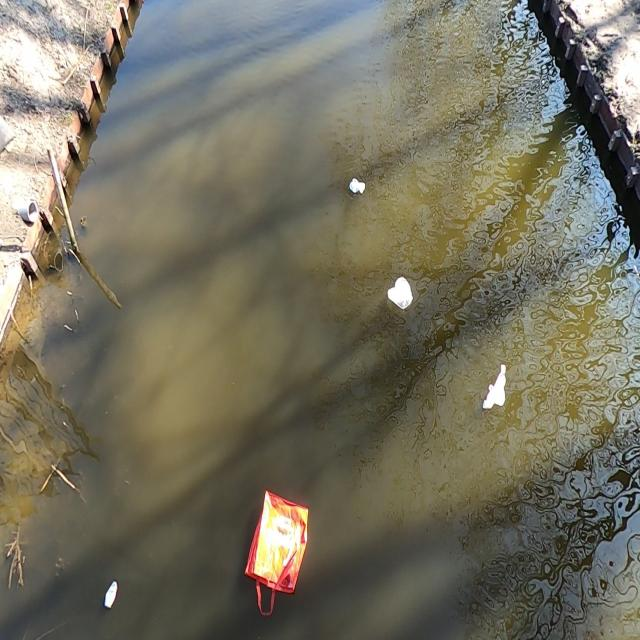Sac plastique: (242, 481, 316, 621)
